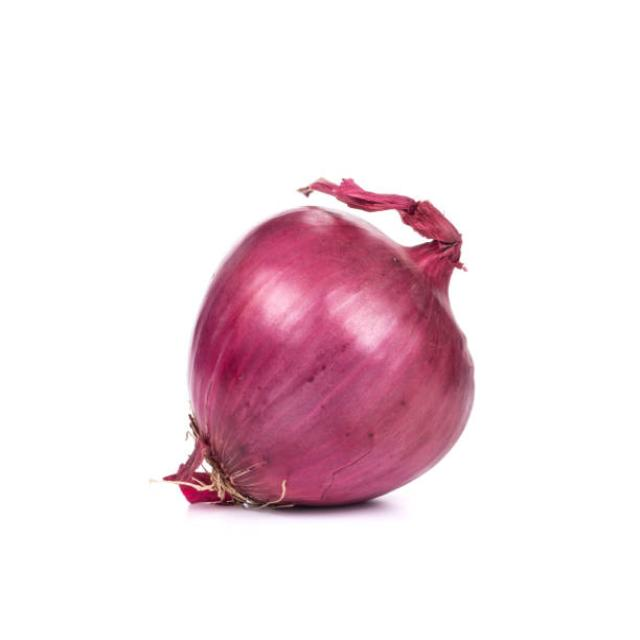onion: (188, 179, 479, 525)
